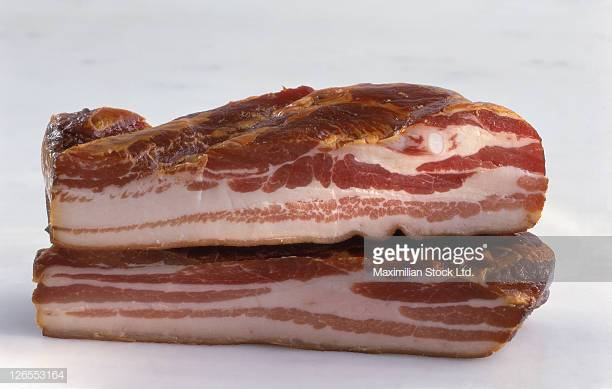bacon: (34, 86, 537, 260), (31, 239, 577, 344)
